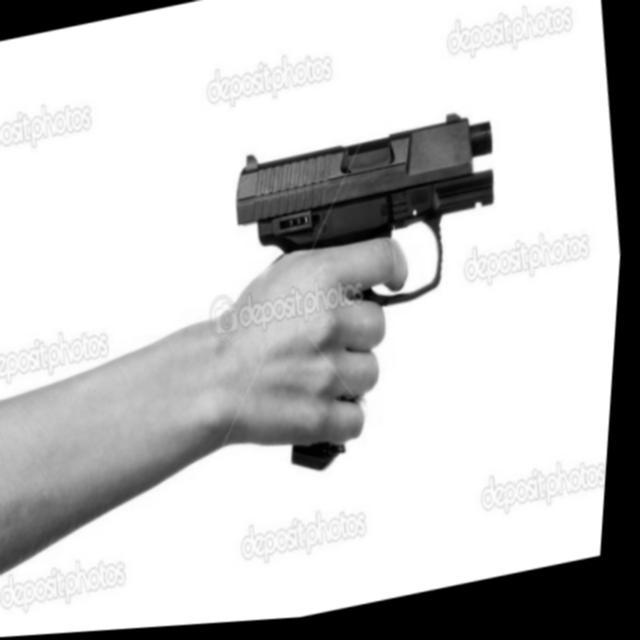weapon: (217, 107, 538, 490)
